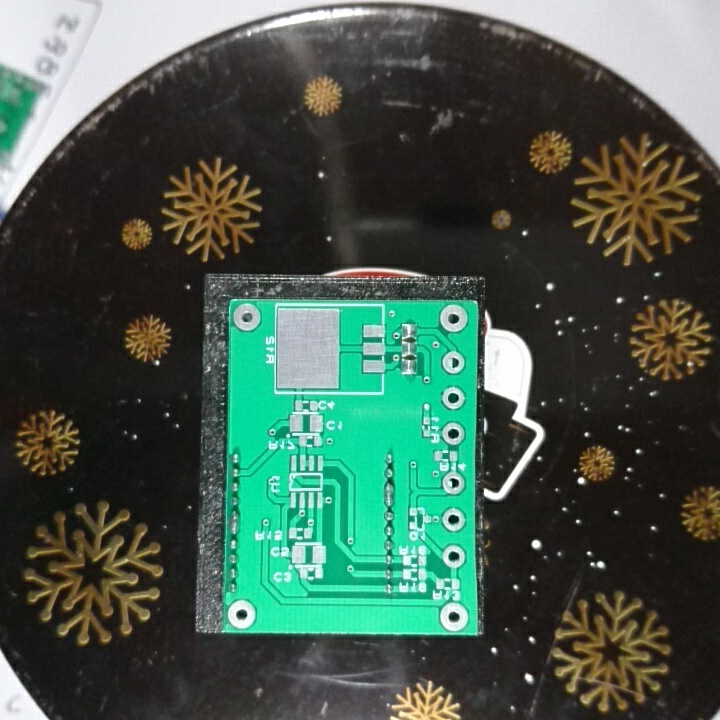F: (437, 600, 471, 634), (437, 302, 468, 334), (226, 598, 257, 629), (231, 302, 263, 332), (439, 419, 468, 449), (440, 505, 468, 533), (439, 350, 467, 377), (440, 469, 467, 497), (440, 543, 468, 569), (440, 384, 465, 411)
P: (382, 480, 398, 508), (228, 507, 242, 535)
